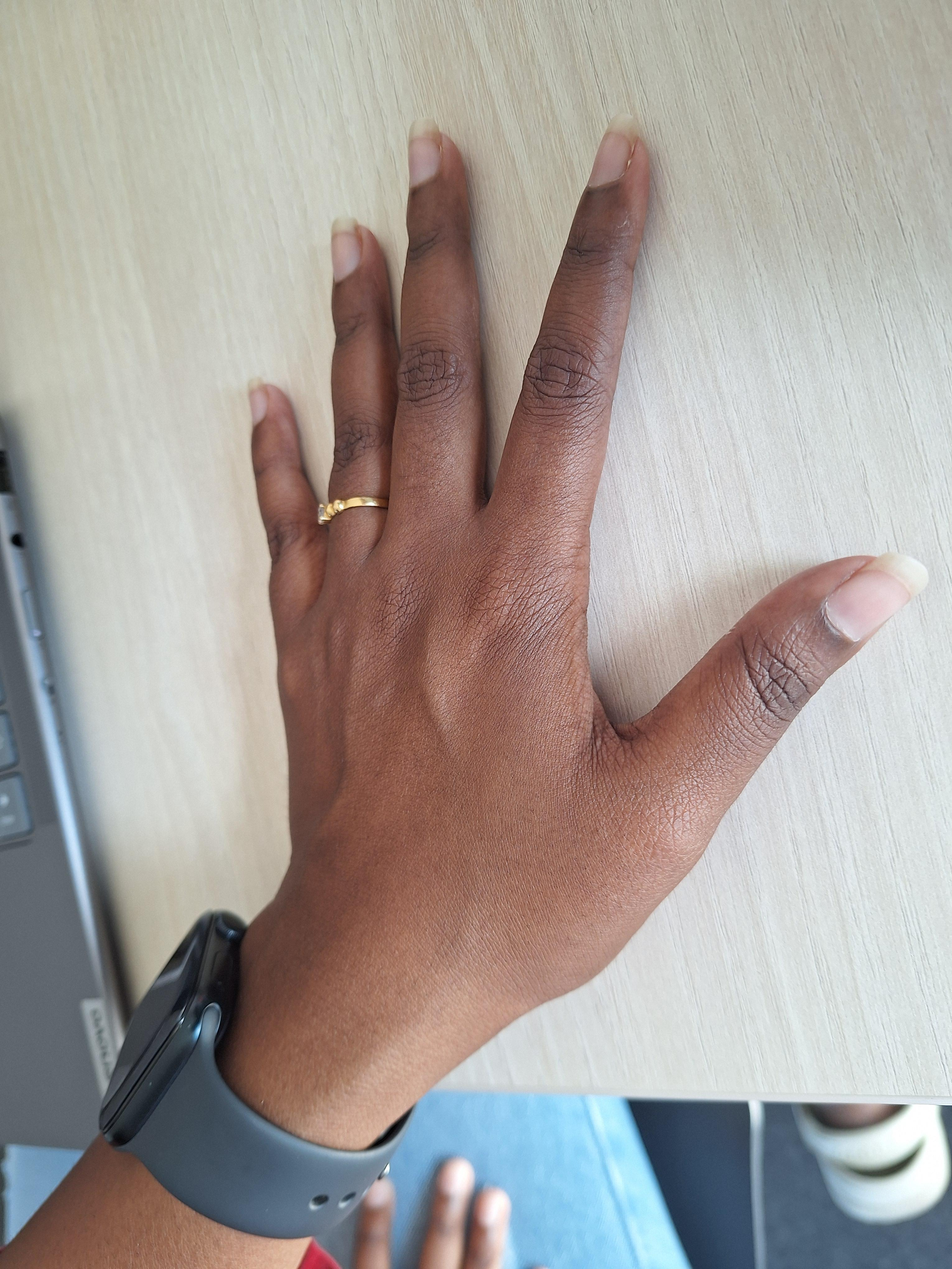Fingernail: (825, 553, 930, 640), (588, 114, 639, 186), (408, 118, 441, 185), (330, 218, 360, 282), (248, 378, 270, 427)
